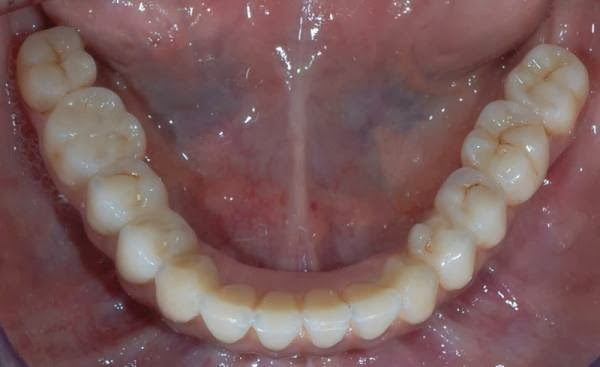LL1BC_healthy: (409, 215, 474, 289)
LL1M_decay: (462, 100, 550, 200)
LL2BC_decay: (435, 167, 506, 248)
LL2M_decay: (507, 44, 589, 131)
LLCI_healthy: (303, 290, 348, 345)
LLC_healthy: (388, 257, 435, 322)
LLLI_healthy: (349, 287, 397, 339)
LR1BC_healthy: (117, 209, 194, 280)
LR1M_healthy: (47, 86, 146, 176)
LR2BC_decay: (87, 161, 166, 225)
LR2M_decay: (17, 26, 96, 97)
LRCI_healthy: (256, 294, 299, 348)
LRC_healthy: (155, 256, 213, 323)
LRLI_healthy: (202, 287, 253, 341)
